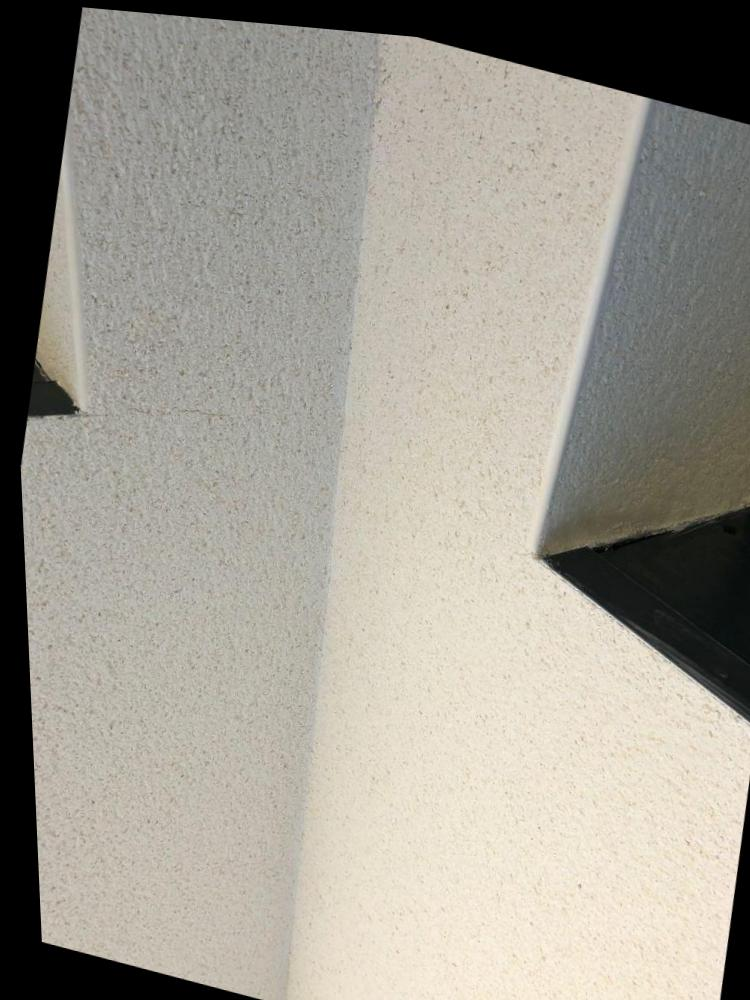crack: (130, 404, 231, 412)
